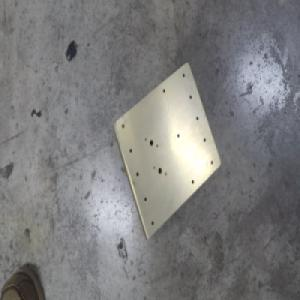MetalSheet: (110, 59, 221, 243)
